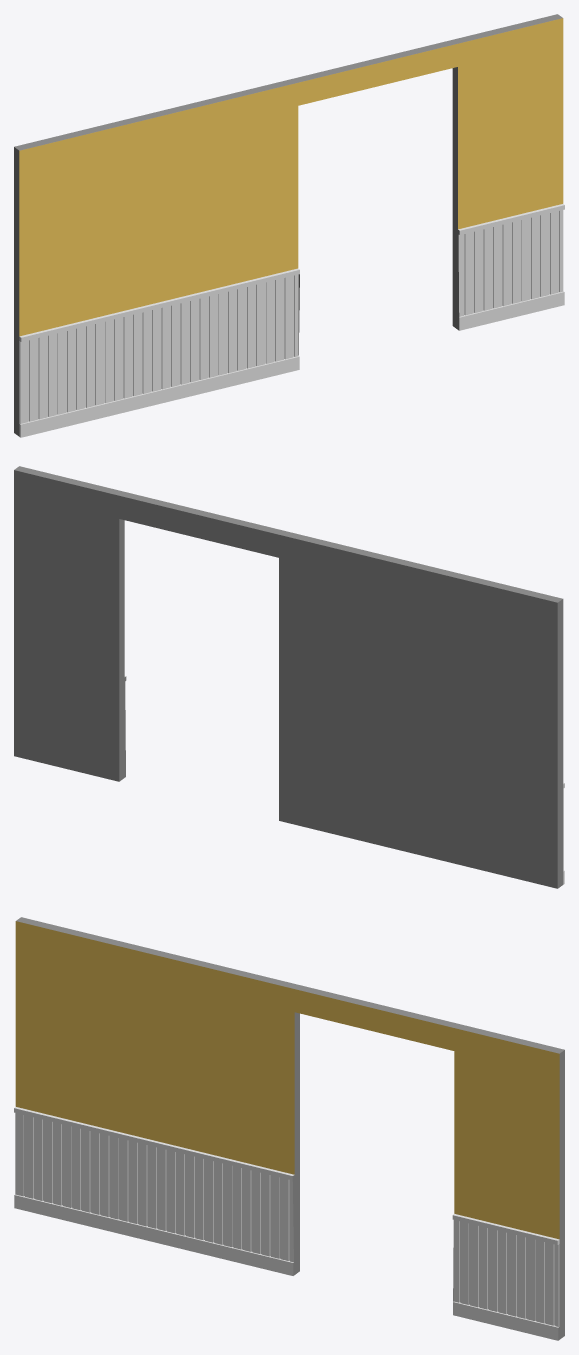
File: Wall 4.FBX
The picture shows the model from 3 angles, top to bottom: view 1: azimuth 30°, elevation 25°; view 2: azimuth 150°, elevation 25°; view 3: azimuth 330°, elevation 25°; orthographic projection.
Parts seen in each view (by area): view 1: Wall 4; view 2: Wall 4; view 3: Wall 4.
Part boxes in pixels (left/top/right/bottom): Wall 4: left=14, top=14, right=564, bottom=437; Wall 4: left=14, top=466, right=564, bottom=888; Wall 4: left=14, top=917, right=564, bottom=1340.
Size of the model in its own units: 497 by 250 by 11.43.
